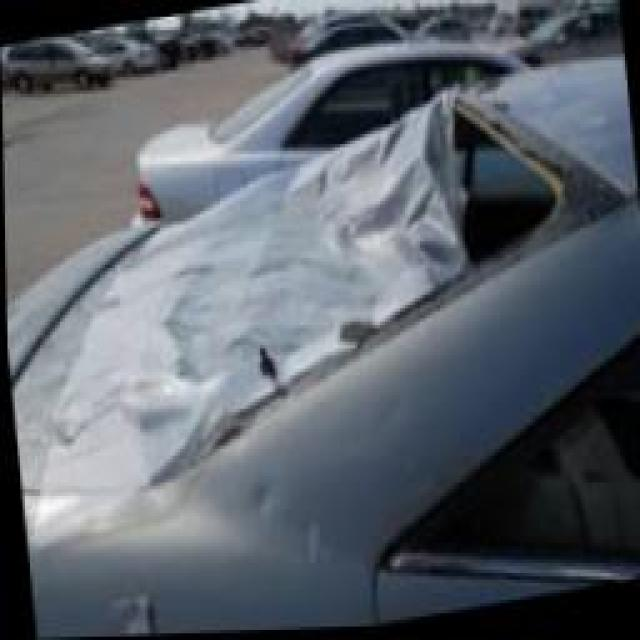Fender: (148, 365, 410, 611)
Windshield: (10, 81, 572, 500)
